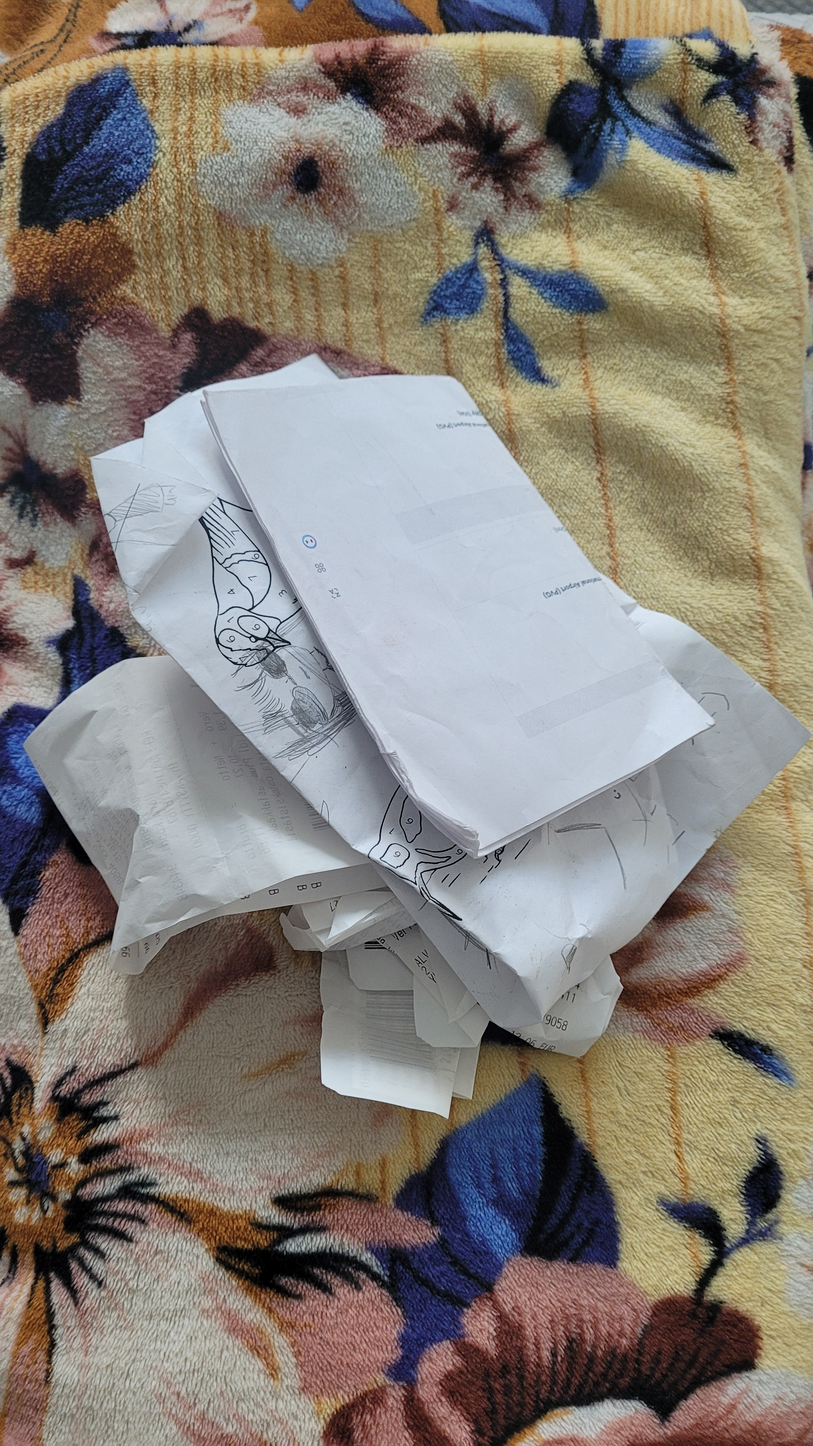paper: (22, 354, 810, 1136)
